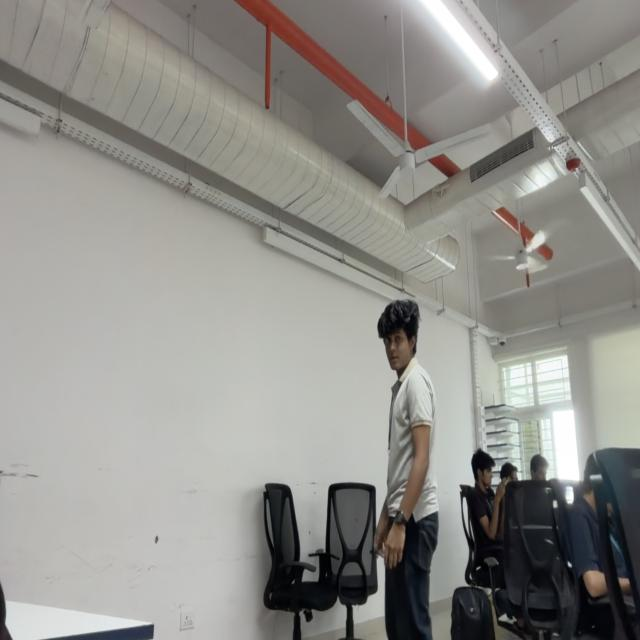kshitij: (377, 297, 419, 370)
